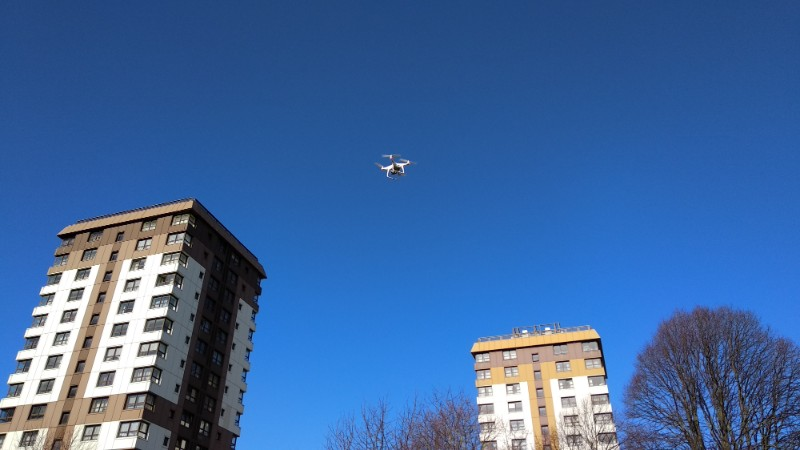drone: (375, 151, 417, 182)
